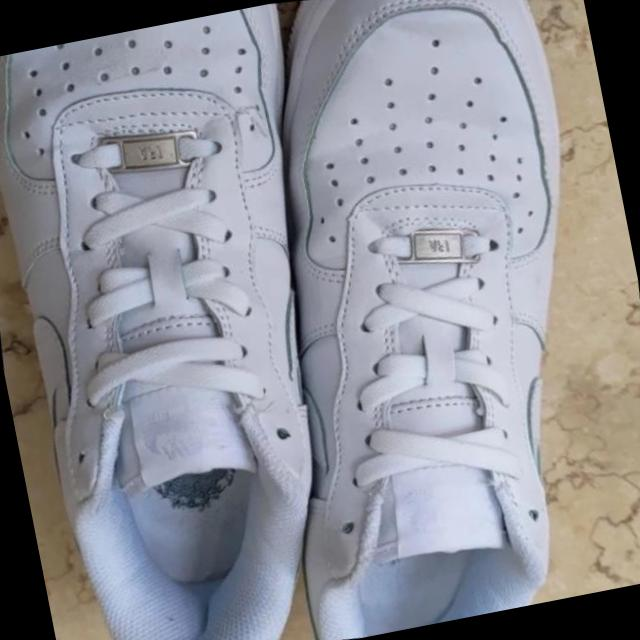nike_fake_airforce: (189, 0, 640, 640), (0, 1, 402, 640), (0, 212, 370, 640)
